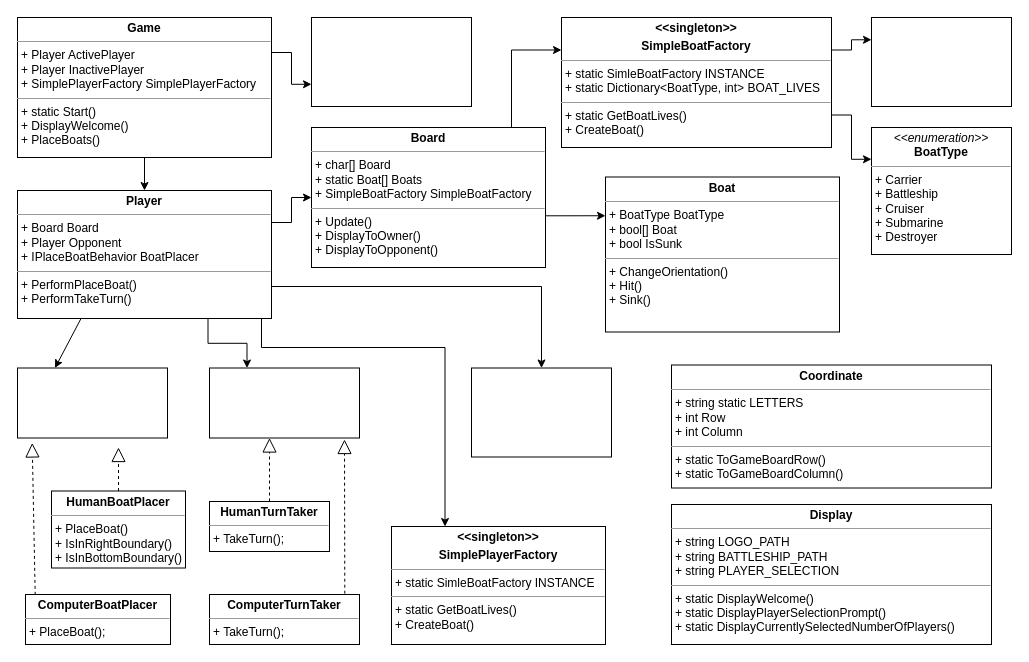
Some shapes in this 1029 by 662 pixel diagram are drawn without their labels. Here are the shapes that lost their labels. From the top down, the box of each, then its label:
(310, 16, 472, 106): <<enumeration>> NumberOfHumanPlayers + OnePlayer + TwoPlayers
(870, 16, 1012, 106): <<enumeration>> Orientation + Horizontal + Vertical
(16, 367, 168, 438): <<Interface>> IPlaceBoatBehavior + PlaceBoat()
(208, 367, 360, 438): <<Interface>> ITakeTurnBehavior + TakeTurn()
(470, 367, 612, 457): <<enumeration>> PlayerType + Human + Computer
